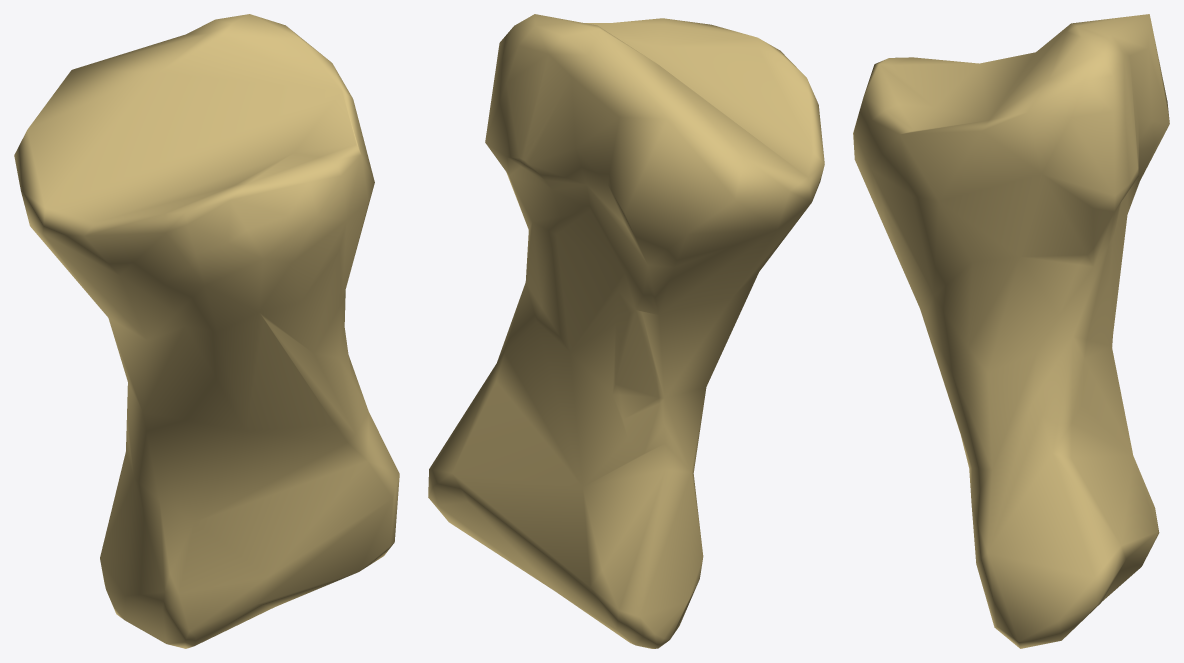
3 views of the same model, side by side, from view 1: azimuth 30°, elevation 25°; view 2: azimuth 150°, elevation 25°; view 3: azimuth 270°, elevation 25° (orthographic). The views are drawn at different scales.
Parts seen in each view (by area): view 1: 左侧第三趾中节趾骨; view 2: 左侧第三趾中节趾骨; view 3: 左侧第三趾中节趾骨.
Part boxes in pixels (x1,y1,x2,y2): 左侧第三趾中节趾骨: (14,14,399,648); 左侧第三趾中节趾骨: (428,14,824,648); 左侧第三趾中节趾骨: (853,14,1169,648).
Bounding box in the file's own units: 0.0164 × 0.0257 × 0.0122.
